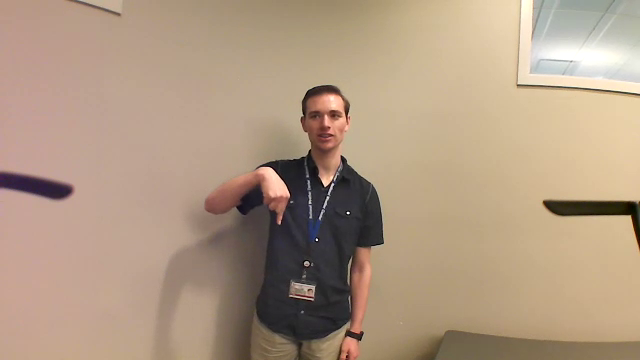down: (251, 158, 293, 225)
